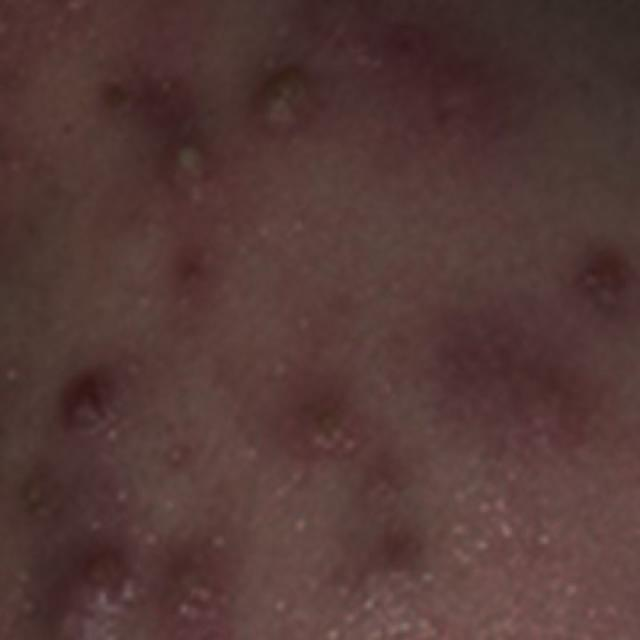acne: (6, 327, 638, 638), (47, 11, 637, 314)
